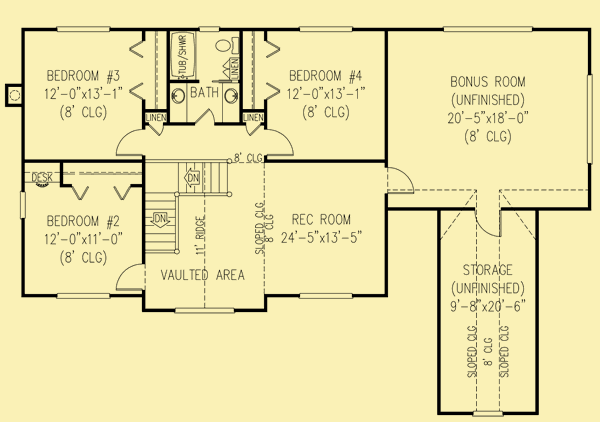door: (381, 161, 418, 197), (472, 202, 506, 241), (112, 261, 148, 293), (262, 128, 298, 159), (113, 127, 145, 157), (240, 120, 262, 137)
large sink: (213, 33, 242, 54)
small sink: (167, 79, 190, 123), (219, 80, 242, 123)
stairs: (141, 155, 235, 257)
tub: (169, 30, 198, 81)
windows: (583, 71, 596, 169), (438, 24, 540, 36), (54, 21, 115, 37), (294, 23, 357, 38), (168, 305, 239, 317), (295, 289, 357, 301), (53, 291, 113, 303), (469, 407, 511, 420), (17, 190, 28, 225)
